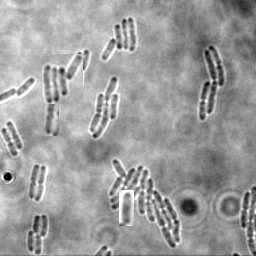Dividing: (44, 90, 59, 136), (119, 190, 134, 226), (1, 128, 18, 157), (34, 166, 47, 202), (28, 164, 39, 200), (239, 192, 249, 229)
Microcolony: (109, 158, 180, 249), (42, 54, 83, 104), (88, 76, 119, 139), (199, 45, 224, 121), (101, 18, 136, 61), (27, 214, 48, 255)
Rod: (5, 121, 23, 150), (16, 78, 34, 99), (79, 50, 89, 72)
